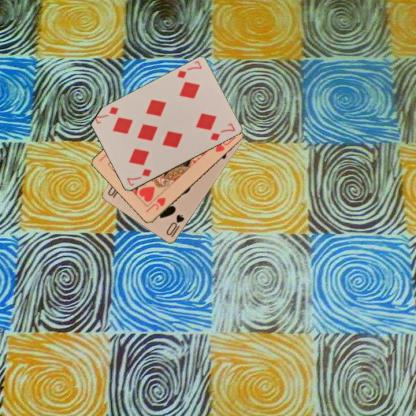10s: (164, 212, 186, 239)
7d: (124, 166, 153, 188), (174, 58, 203, 80)
Jh: (143, 195, 167, 214)
